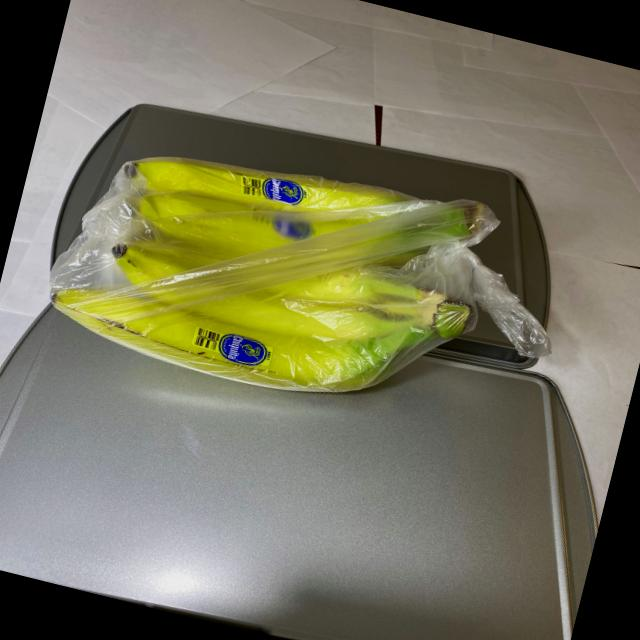banana: (24, 94, 520, 447)
